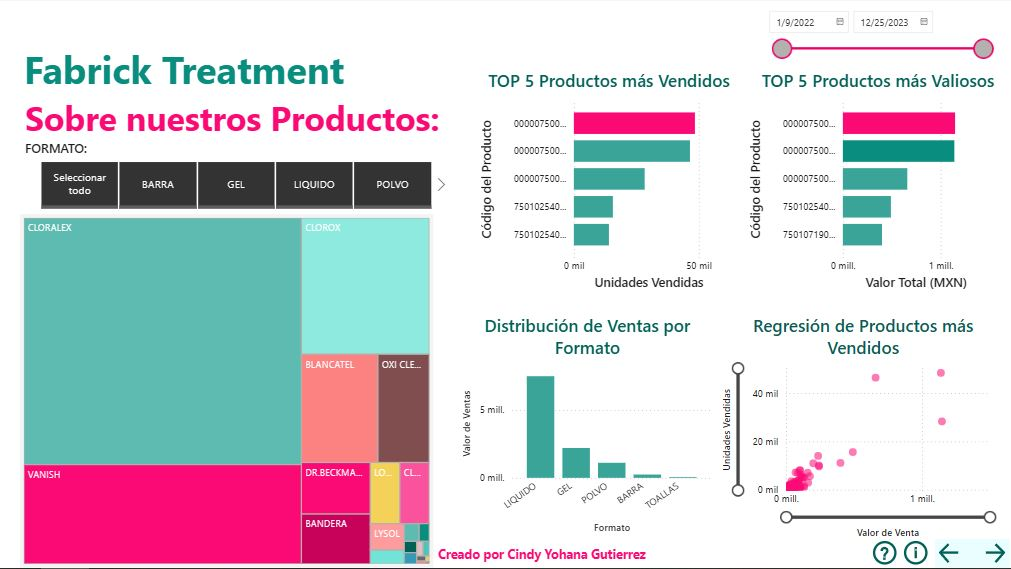

The dashboard page shown, as its layout file describes it:
{"tool":"powerbi","page":{"name":"Explorativa","canvas":[1280,720],"ordinal":1},"visuals":[{"type":"scatterChart","title":"Regresión de Productos más Vendidos","fields":{"Category":["FACS_Ventas.ITEM_CODE"],"X":["Sum(FACS_Ventas.TOTAL_VALUE_SALES)"],"Y":["Sum(FACS_Ventas.TOTAL_UNIT_SALES)"]},"box":[906.2,396.9,373.8,286.2],"z":0},{"type":"clusteredColumnChart","title":"Distribución de Ventas por Formato","fields":{"Category":["Producto.FORMAT"],"Y":["Sum(FACS_Ventas.TOTAL_VALUE_SALES)"]},"box":[580,396.9,326.2,283.1],"z":1000},{"type":"slicer","title":"(Enero 2022 - Julio 2023)","fields":{"Values":["Calendario.DATE"]},"box":[966.2,7.7,295.4,116.9],"z":2000},{"type":"treemap","title":"Diferentes Marcas y sus Ventas","fields":{"Group":["Producto.BRAND"],"Values":["Sum(FACS_Ventas.TOTAL_VALUE_SALES)"]},"box":[23.1,270.8,524.6,449.2],"z":3000},{"type":"textbox","box":[24.6,113.8,544.6,76.9],"z":4000},{"type":"slicer","title":"FORMATO:","fields":{"Values":["Producto.FORMAT"]},"box":[24.6,176.9,544.6,93.8],"z":5000},{"type":"clusteredBarChart","title":"TOP 5 Productos más Vendidos","fields":{"Category":["FACS_Ventas.ITEM CODE"],"Y":["Sum(FACS_Ventas.TOTAL_UNIT_SALES)"]},"box":[603.1,86.2,335.4,286.2],"z":6000},{"type":"clusteredBarChart","title":"TOP 5 Productos más Valiosos","fields":{"Category":["FACS_Ventas.ITEM CODE"],"Y":["Sum(FACS_Ventas.TOTAL_VALUE_SALES)"]},"box":[944.6,86.2,335.4,286.2],"z":7000},{"type":"actionButton","box":[1140,680,44.6,40],"z":8000},{"type":"actionButton","box":[1232.3,683.1,47.7,36.9],"z":9000},{"type":"actionButton","box":[1184.6,683.1,47.7,36.9],"z":10000},{"type":"textbox","box":[23.1,47.7,493.8,76.9],"z":11000},{"type":"actionButton","box":[1101.5,680,44.6,40],"z":12000},{"type":"textbox","box":[549.2,687.3,306.3,33.3],"z":13000}]}

Visuals, with their boxes in screenshot pixels (x1, y1, x2, y2), scaled from the page's 1280x720 canvas onto the 1011x569 screenshot:
"Regresión de Productos más Vendidos" scatterChart: crop(716, 314, 1010, 540)
"Distribución de Ventas por Formato" clusteredColumnChart: crop(458, 314, 716, 537)
"(Enero 2022 - Julio 2023)" slicer: crop(763, 6, 996, 98)
"Diferentes Marcas y sus Ventas" treemap: crop(18, 214, 433, 568)
textbox: crop(19, 90, 450, 151)
"FORMATO:" slicer: crop(19, 140, 450, 214)
"TOP 5 Productos más Vendidos" clusteredBarChart: crop(476, 68, 741, 294)
"TOP 5 Productos más Valiosos" clusteredBarChart: crop(746, 68, 1010, 294)
actionButton: crop(900, 537, 936, 568)
actionButton: crop(973, 540, 1010, 568)
actionButton: crop(936, 540, 973, 568)
textbox: crop(18, 38, 408, 98)
actionButton: crop(870, 537, 905, 568)
textbox: crop(434, 543, 676, 568)
